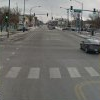crosswalk: (0, 66, 98, 79)
